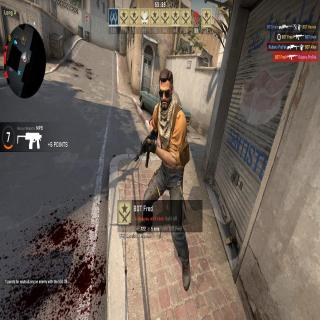T-Body: (136, 65, 195, 283)
T-Head: (158, 68, 174, 110)
